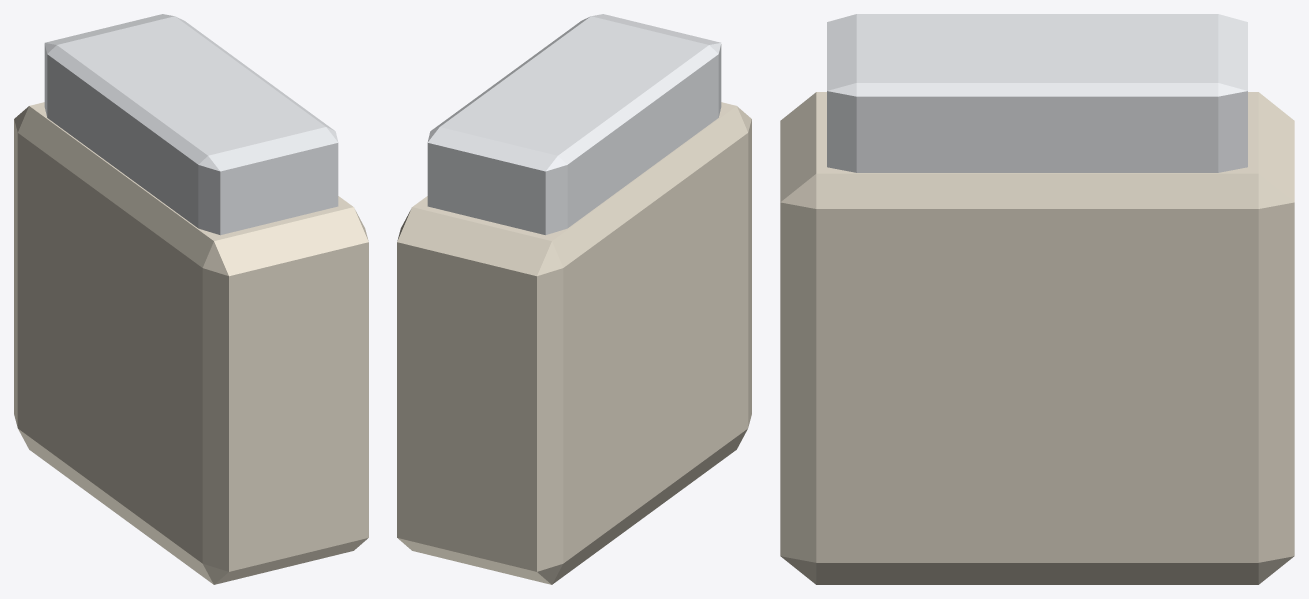
Rendered from b17_inline_skate.glb.
3 renders of one model, left to right at view 1: azimuth 30°, elevation 25°; view 2: azimuth 150°, elevation 25°; view 3: azimuth 270°, elevation 25°, orthographic. The views are drawn at different scales.
Visible parts, largest first — view 1: b17_inline_skate; view 2: b17_inline_skate; view 3: b17_inline_skate.
Boxes of the visible parts, bbox=[...] form: b17_inline_skate: bbox=[14, 14, 368, 584]; b17_inline_skate: bbox=[397, 14, 751, 584]; b17_inline_skate: bbox=[780, 14, 1294, 584].
Bounding box in the file's own units: 0.124 × 0.302 × 0.284.
